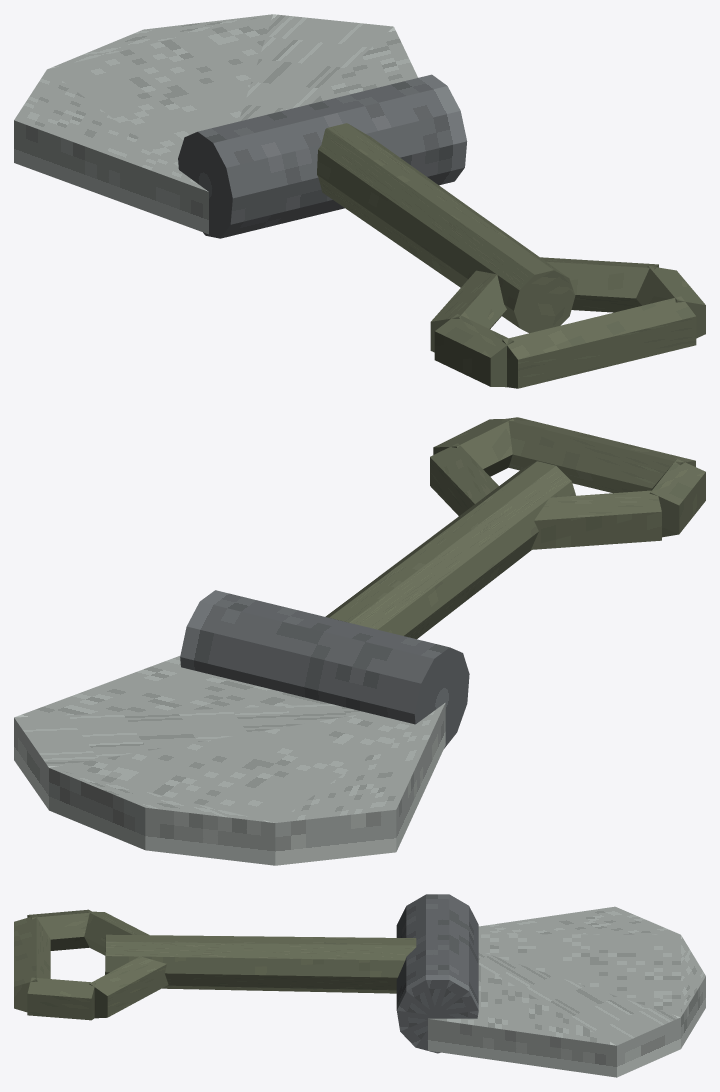
The model's file is e_tool.glb.
3 renders of one model, top to bottom at view 1: azimuth 30°, elevation 25°; view 2: azimuth 150°, elevation 25°; view 3: azimuth 270°, elevation 25°, orthographic. The views are drawn at different scales.
Visible parts, largest first — view 1: block_folding steel spade blade, block_folding pivot, block_collapsed handle tube, block_loop grip 2, block_loop grip 4, block_loop grip 1, block_loop grip 0, block_loop grip 3; view 2: block_folding steel spade blade, block_folding pivot, block_collapsed handle tube, block_loop grip 2, block_loop grip 0, block_loop grip 4, block_loop grip 1, block_loop grip 3; view 3: block_folding steel spade blade, block_collapsed handle tube, block_folding pivot, block_loop grip 4, block_loop grip 2, block_loop grip 3, block_loop grip 1, block_loop grip 0.
Part boxes in pixels (bbox=[...]): block_folding steel spade blade: bbox=[14, 14, 417, 234]; block_folding pivot: bbox=[178, 74, 467, 238]; block_collapsed handle tube: bbox=[317, 123, 575, 333]; block_loop grip 2: bbox=[502, 296, 696, 388]; block_loop grip 4: bbox=[540, 257, 658, 312]; block_loop grip 1: bbox=[434, 314, 513, 387]; block_loop grip 0: bbox=[430, 270, 506, 352]; block_loop grip 3: bbox=[636, 266, 705, 338]; block_folding steel spade blade: bbox=[14, 656, 445, 865]; block_folding pivot: bbox=[180, 590, 469, 748]; block_collapsed handle tube: bbox=[325, 461, 575, 639]; block_loop grip 2: bbox=[502, 417, 695, 493]; block_loop grip 0: bbox=[531, 490, 661, 549]; block_loop grip 4: bbox=[430, 443, 498, 515]; block_loop grip 1: bbox=[649, 459, 705, 537]; block_loop grip 3: bbox=[433, 418, 513, 476]; block_folding steel spade blade: bbox=[428, 906, 705, 1077]; block_collapsed handle tube: bbox=[105, 934, 416, 993]; block_folding pivot: bbox=[396, 894, 478, 1053]; block_loop grip 4: bbox=[89, 956, 168, 1018]; block_loop grip 2: bbox=[14, 915, 50, 1012]; block_loop grip 3: bbox=[27, 977, 95, 1020]; block_loop grip 1: bbox=[27, 909, 93, 950]; block_loop grip 0: bbox=[84, 911, 149, 955].
Bounding box in the file's own units: 0.1094 × 0.027 × 0.23.
1 material, 1 textured.
